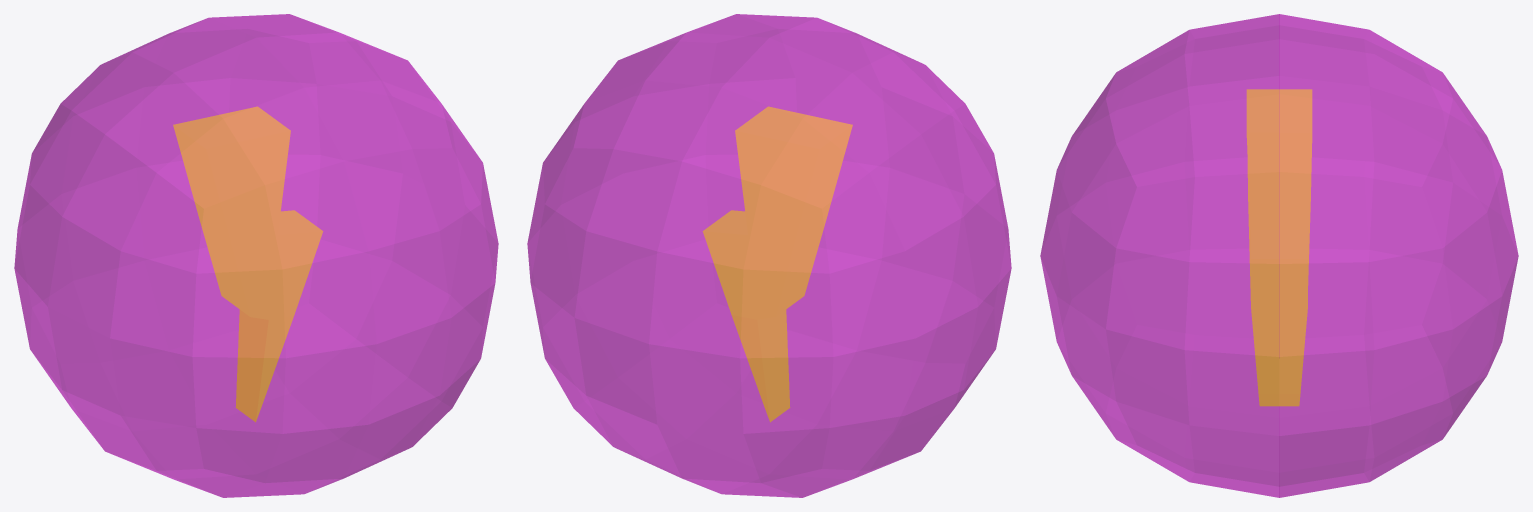
File: speed_pickup.glb
3 views of the same model, side by side, from view 1: azimuth 30°, elevation 25°; view 2: azimuth 150°, elevation 25°; view 3: azimuth 270°, elevation 25° (orthographic).
Visible parts, largest first — view 1: speed_pickup; view 2: speed_pickup; view 3: speed_pickup.
Part boxes in pixels (x1,y1,x2,y2): speed_pickup: (14,14,498,497); speed_pickup: (527,14,1011,497); speed_pickup: (1040,14,1518,497).
Size of the model in its own units: 0.8395 by 0.8395 by 0.8395.
